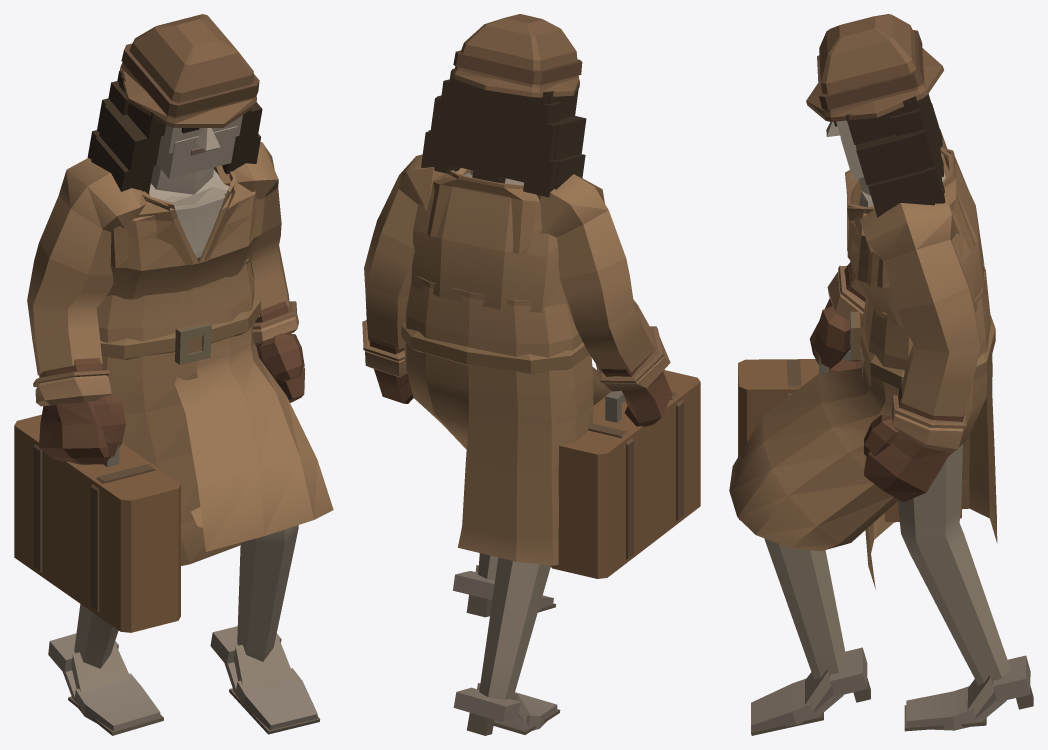
Rendered from passenger-ac425a__walk7.glb.
3 renders of one model, left to right at view 1: azimuth 30°, elevation 25°; view 2: azimuth 150°, elevation 25°; view 3: azimuth 270°, elevation 25°, orthographic. The views are drawn at different scales.
Parts seen in each view (by area): view 1: passenger-ac425a__walk7; view 2: passenger-ac425a__walk7; view 3: passenger-ac425a__walk7.
Boxes of the visible parts, x1,y1,x2,y2 form: passenger-ac425a__walk7: [14, 14, 333, 735]; passenger-ac425a__walk7: [362, 14, 700, 735]; passenger-ac425a__walk7: [729, 14, 1033, 735].
Size of the model in its own units: 0.7601 by 1.77 by 0.6826.
